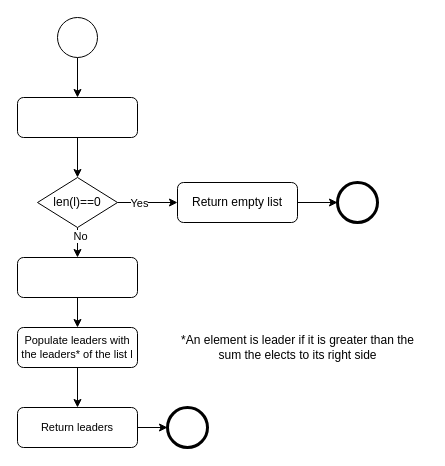
This 445x466 diagram has some shape labels left out. The centre of each missing label's shape, as x and y in pixels:
Initialise an empty list leaders: (77,277)
Receive a list of integers: (77,117)
